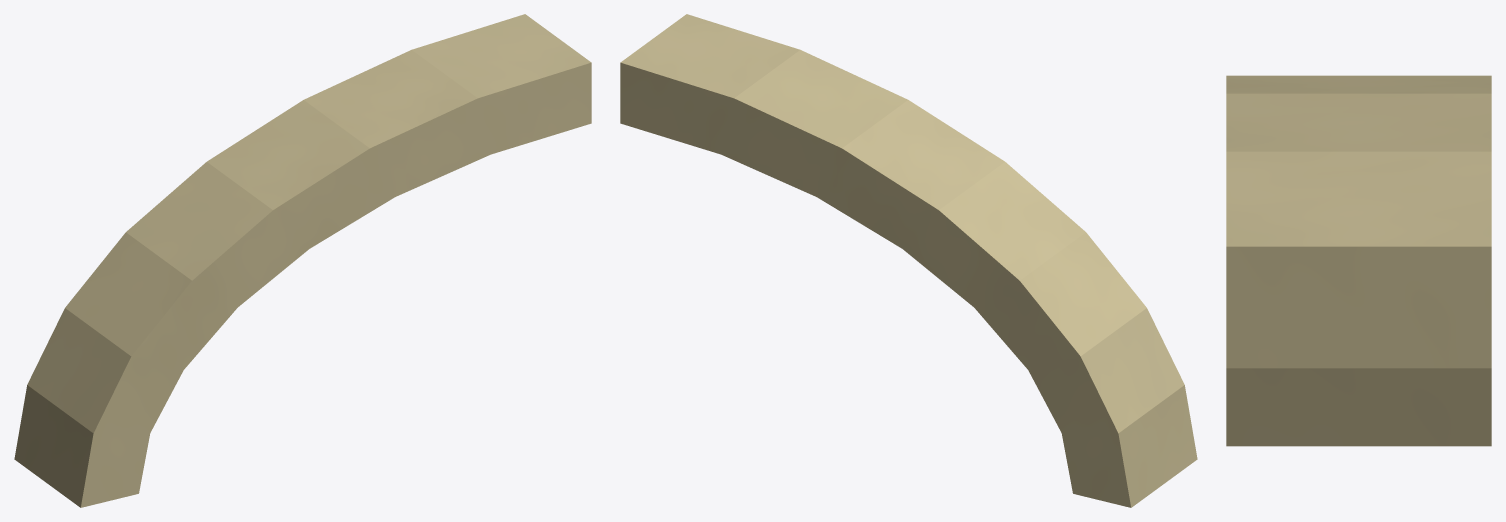
The model's file is WarrensC_WVC006_BoneArchRib_Mars_SM.fbx.
The picture shows the model from 3 angles, left to right: view 1: azimuth 30°, elevation 25°; view 2: azimuth 150°, elevation 25°; view 3: azimuth 270°, elevation 25°; orthographic projection. The views are drawn at different scales.
Parts seen in each view (by area): view 1: WarrensC_WVC006_BoneArchRib_Mars_SM.001; view 2: WarrensC_WVC006_BoneArchRib_Mars_SM.001; view 3: WarrensC_WVC006_BoneArchRib_Mars_SM.001.
Boxes of the visible parts, x1,y1,x2,y2 form: WarrensC_WVC006_BoneArchRib_Mars_SM.001: [14, 14, 591, 507]; WarrensC_WVC006_BoneArchRib_Mars_SM.001: [620, 14, 1197, 507]; WarrensC_WVC006_BoneArchRib_Mars_SM.001: [1226, 75, 1491, 446].
Size of the model in its own units: 200 by 45 by 120.
